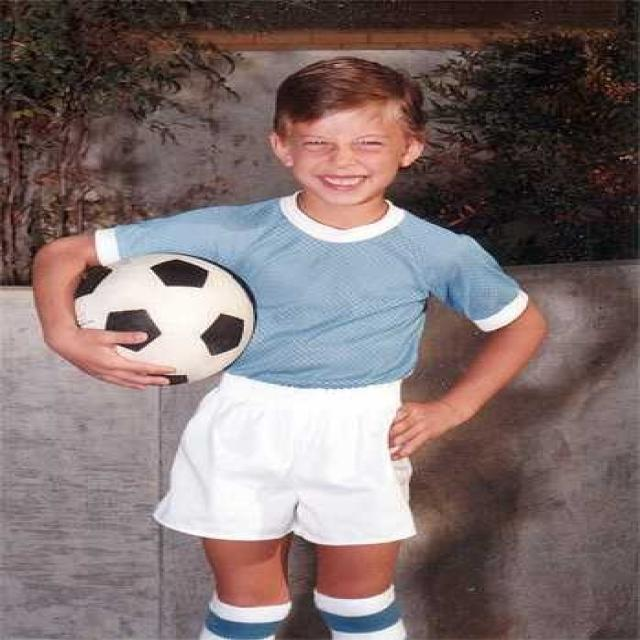ball: (70, 253, 258, 386)
